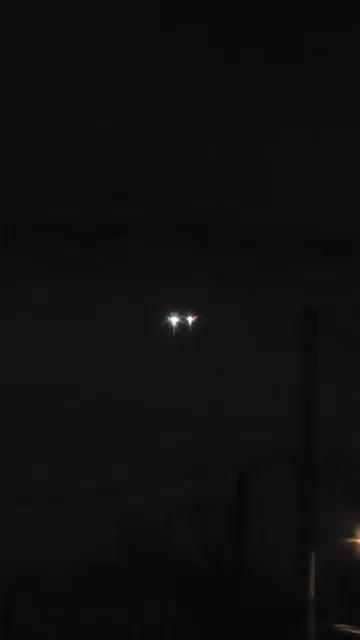Plane: (146, 276, 218, 360)
